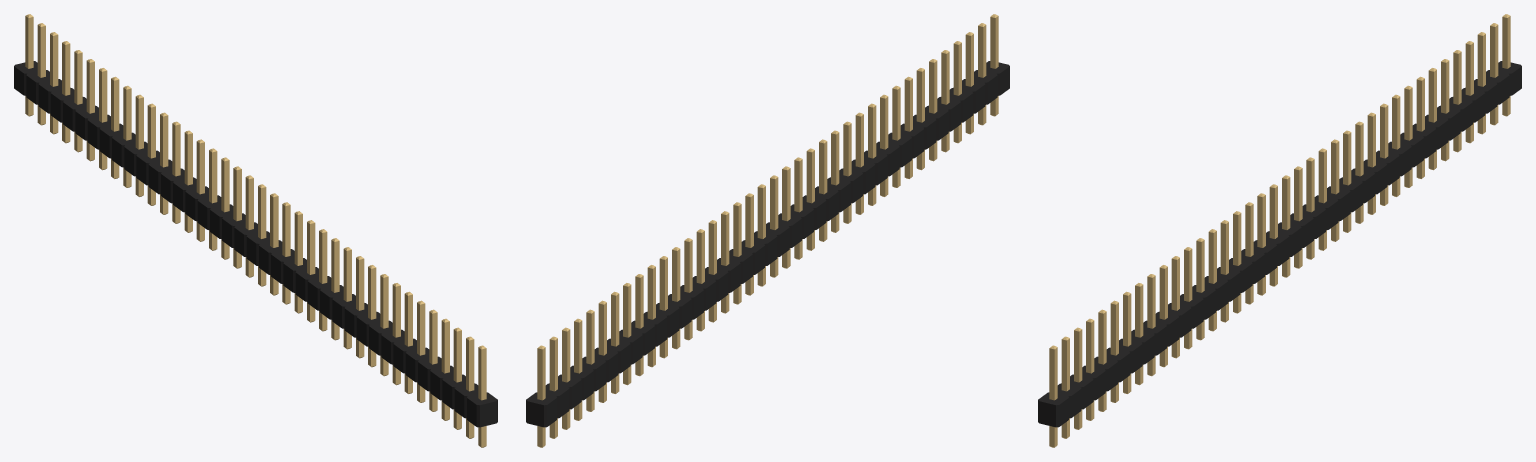
File: kc-pinheader_1x38_p2.54mm_vertical.glb
3 views of the same model, side by side, from view 1: azimuth 30°, elevation 25°; view 2: azimuth 150°, elevation 25°; view 3: azimuth 330°, elevation 25° (orthographic).
Visible parts, largest first — view 1: 0.75_0.5_0.25_0.9, 0_0_0_0; view 2: 0.75_0.5_0.25_0.9, 0_0_0_0; view 3: 0.75_0.5_0.25_0.9, 0_0_0_0.
Boxes of the visible parts, box(x1,y1,x2,y2) form: 0.75_0.5_0.25_0.9: box(25, 14, 486, 447); 0_0_0_0: box(14, 61, 497, 427); 0.75_0.5_0.25_0.9: box(537, 14, 998, 447); 0_0_0_0: box(526, 61, 1009, 427); 0.75_0.5_0.25_0.9: box(1049, 14, 1510, 447); 0_0_0_0: box(1038, 61, 1521, 427).
Bounding box in the file's own units: 0.2545 × 1.15 × 9.65.
